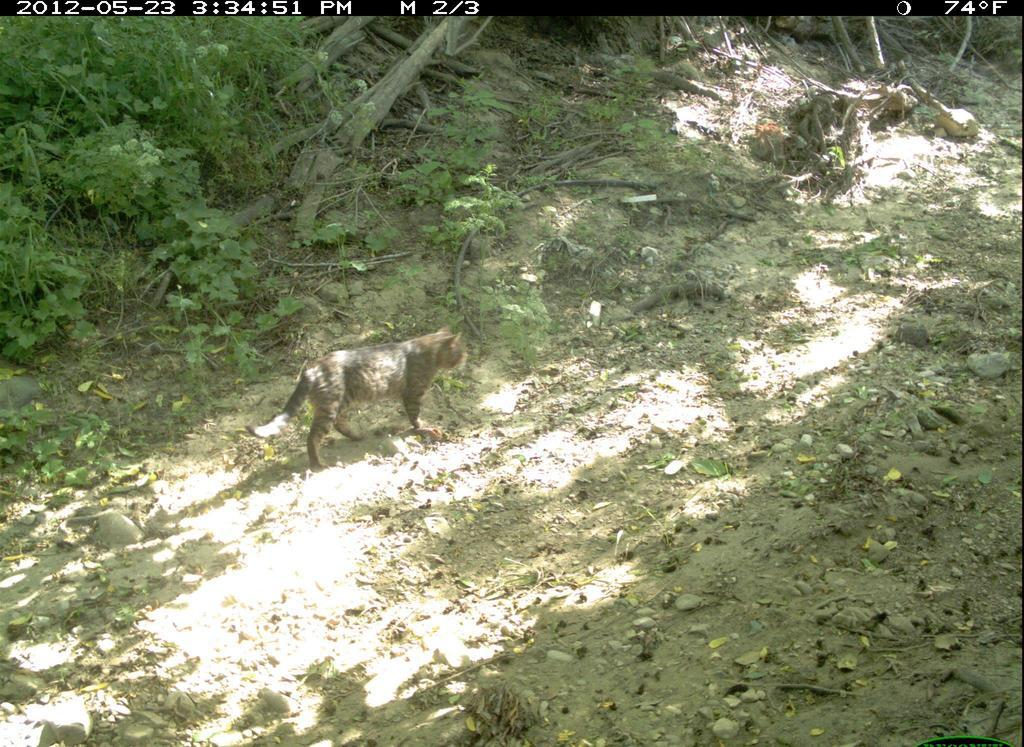cat: (245, 319, 479, 474)
